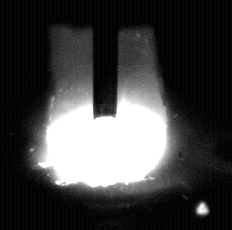arame: (94, 0, 118, 121)
poca: (45, 0, 168, 230)
